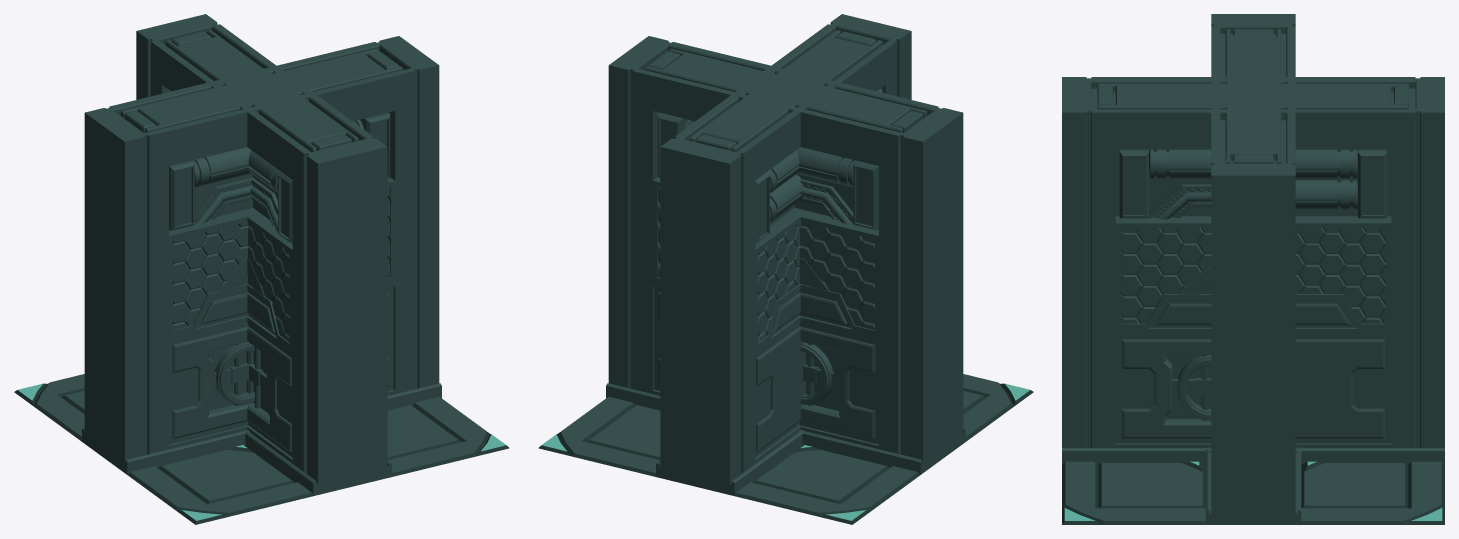
The model's file is Walls_4Way_Var02.fbx.
The picture shows the model from 3 angles, left to right: view 1: azimuth 30°, elevation 25°; view 2: azimuth 150°, elevation 25°; view 3: azimuth 270°, elevation 25°; orthographic projection. The views are drawn at different scales.
Visible parts, largest first — view 1: Walls_4Way_Var02; view 2: Walls_4Way_Var02; view 3: Walls_4Way_Var02.
Boxes of the visible parts, x1,y1,x2,y2 form: Walls_4Way_Var02: [14, 14, 509, 524]; Walls_4Way_Var02: [538, 14, 1033, 524]; Walls_4Way_Var02: [1062, 14, 1444, 524].
Bounding box in the file's own units: 600 × 604 × 600.
